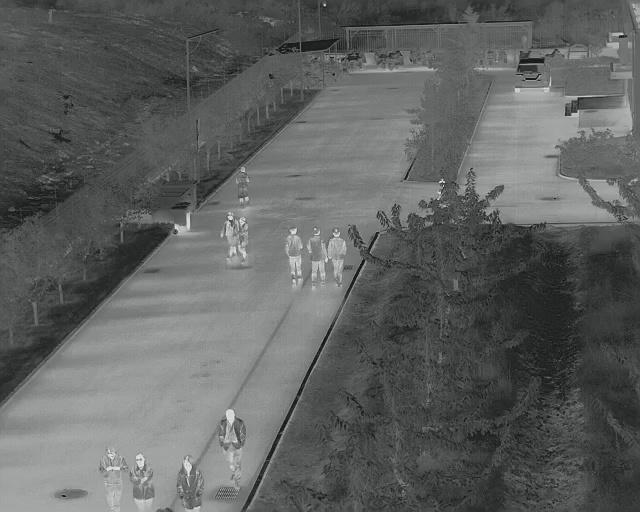person: (99, 446, 128, 512), (219, 410, 243, 484), (179, 454, 203, 511), (131, 452, 153, 510), (309, 228, 327, 288), (328, 227, 346, 287), (285, 227, 303, 285), (236, 165, 251, 209), (223, 213, 235, 260), (239, 216, 249, 267)
vehicle: (516, 58, 552, 92)
